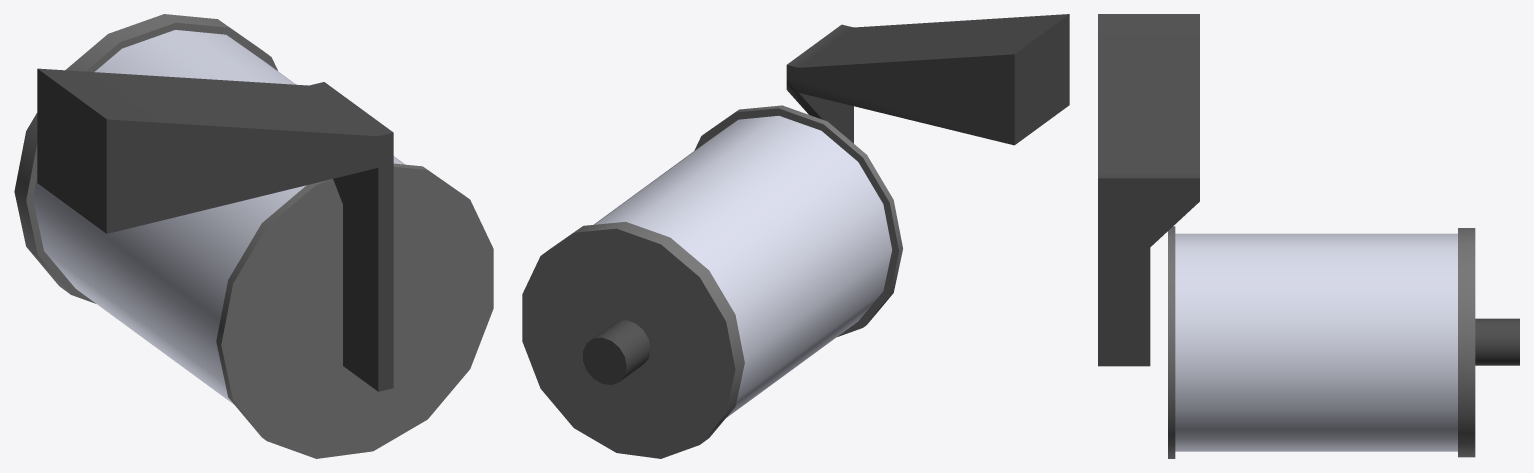
File: Coxa_Mirrored.obj
3 renders of one model, left to right at view 1: azimuth 30°, elevation 25°; view 2: azimuth 150°, elevation 25°; view 3: azimuth 270°, elevation 25°, orthographic. The views are drawn at different scales.
Parts seen in each view (by area): view 1: Coxa_Mirrored; view 2: Coxa_Mirrored; view 3: Coxa_Mirrored.
Part boxes in pixels (box(x1,y1,x2,y2)): Coxa_Mirrored: box(14, 14, 493, 458); Coxa_Mirrored: box(522, 14, 1069, 458); Coxa_Mirrored: box(1098, 14, 1519, 458).
Size of the model in its own units: 0.7822 by 0.7631 by 0.8942.
